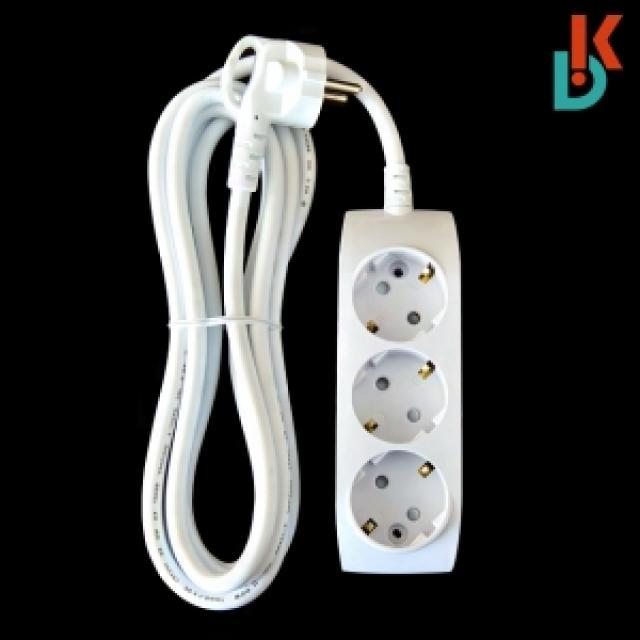typeb: (331, 190, 475, 618)
